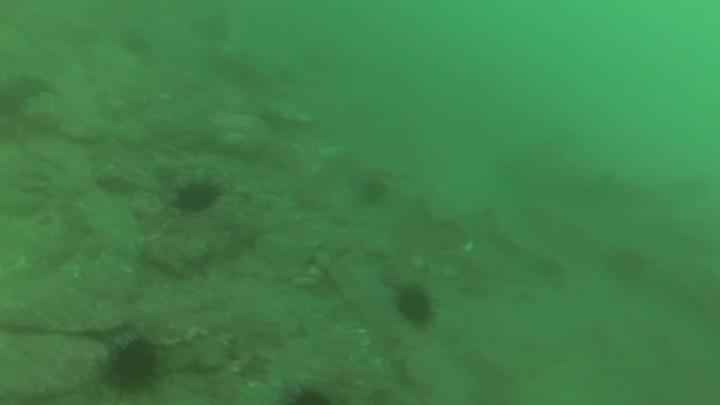starfish: (104, 340, 155, 396), (396, 289, 437, 324), (174, 185, 217, 209), (358, 179, 389, 206)
